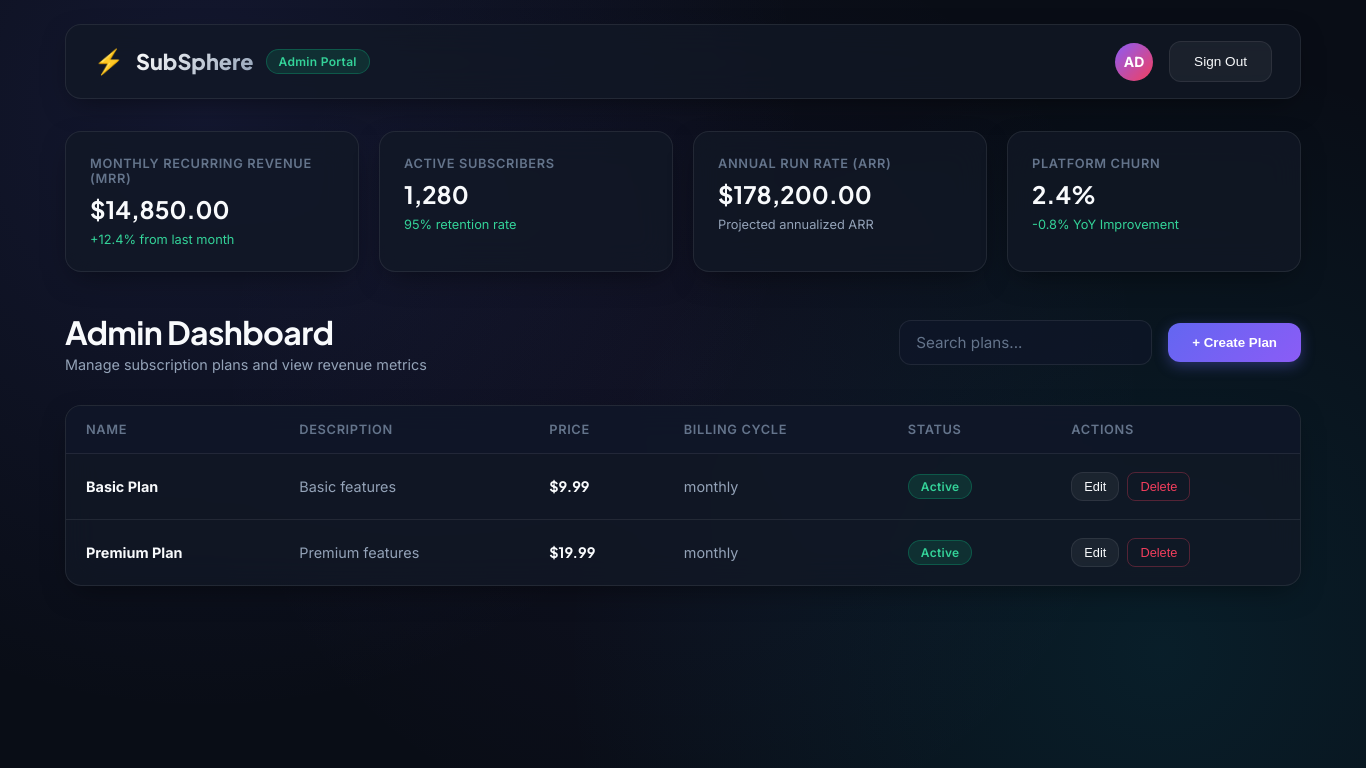
Test: AdminDashboard › opens edit modal with pre-filled data
Expected: the text "Basic Plan" is shown, x1=86 y1=478 x2=158 y2=495
Click the button "Edit" in the row of "Basic Plan". click: {"x": 1095, "y": 486}
box: x1=1071 y1=472 x2=1119 y2=501
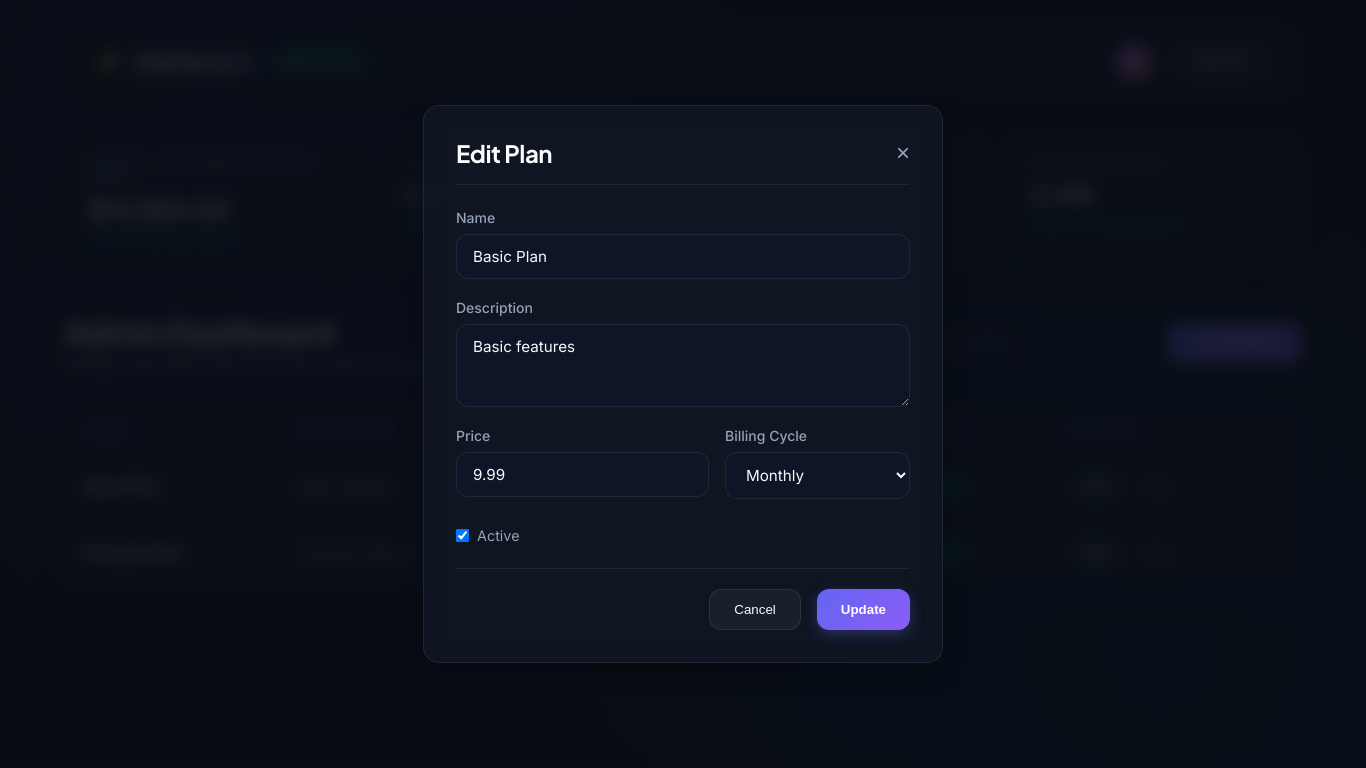
Result: the field showing "Basic Plan" is shown at x1=456 y1=234 x2=910 y2=279
Result: the text box showing "Basic features" is shown at x1=456 y1=324 x2=910 y2=407
Result: the number field showing "9.99" is shown at x1=456 y1=452 x2=709 y2=497
